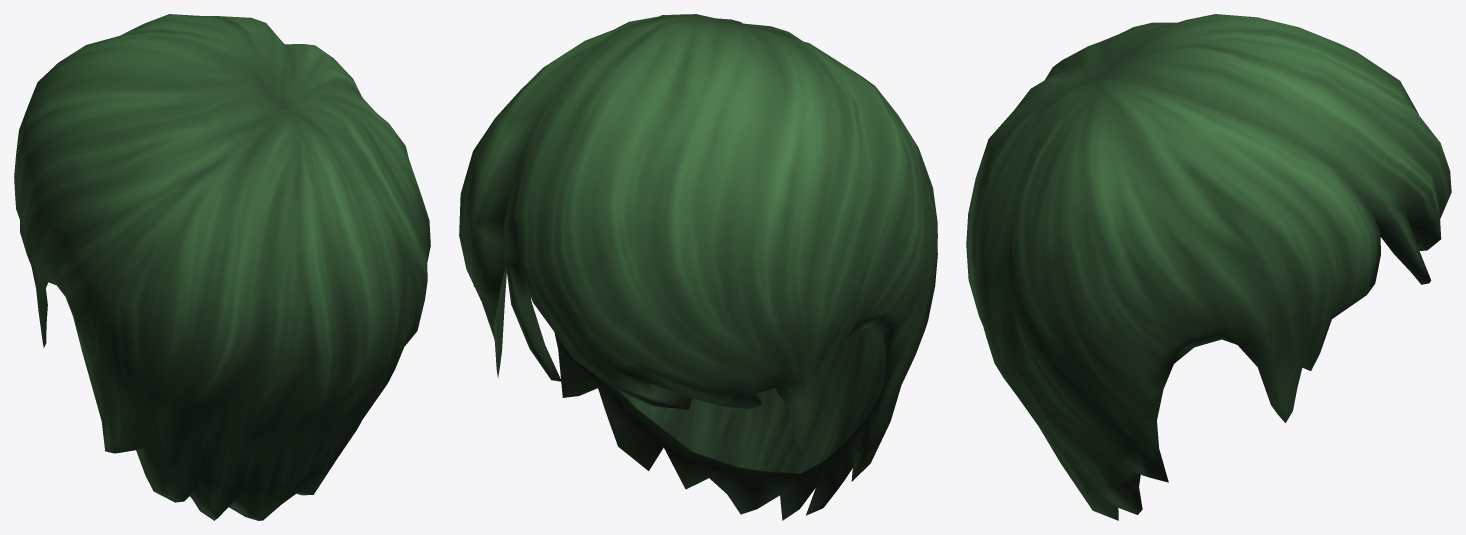
The model's file is Hair_Male_004_textured_green.glb.
3 renders of one model, left to right at view 1: azimuth 30°, elevation 25°; view 2: azimuth 150°, elevation 25°; view 3: azimuth 270°, elevation 25°, orthographic. The views are drawn at different scales.
Visible parts, largest first — view 1: Hair_Male_004; view 2: Hair_Male_004; view 3: Hair_Male_004.
Part boxes in pixels (x1,y1,x2,y2): Hair_Male_004: [14, 14, 430, 520]; Hair_Male_004: [459, 14, 937, 520]; Hair_Male_004: [966, 14, 1451, 520].
Bounding box in the file's own units: 0.189 × 0.2477 × 0.2273.
Materials: 1 (1 with a texture image).
